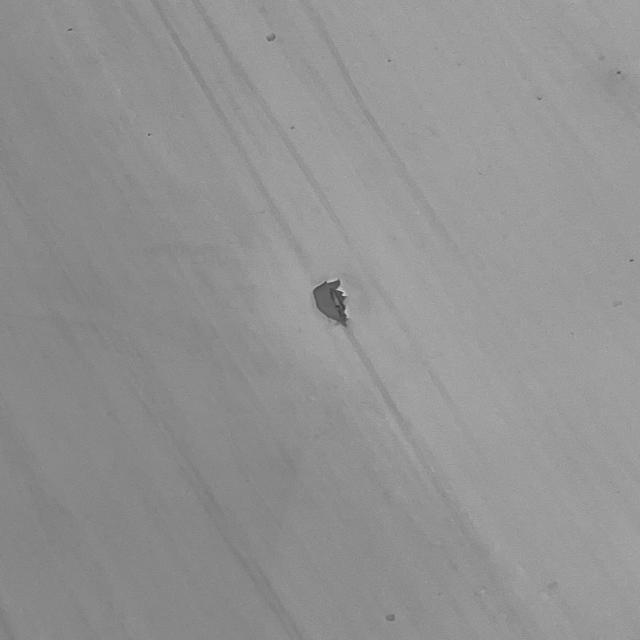crack: (302, 263, 369, 334)
